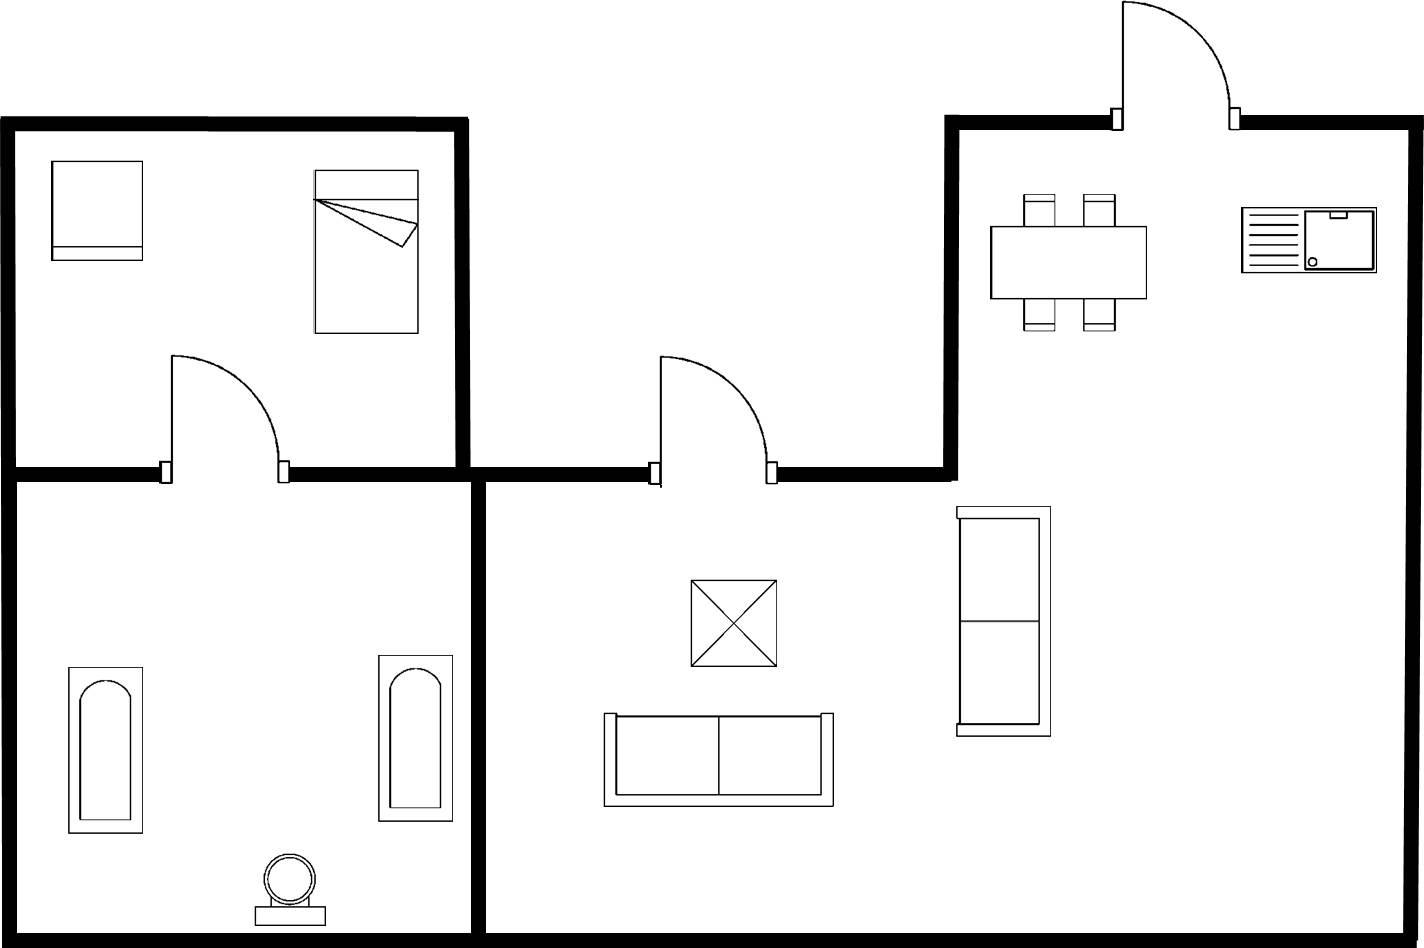bed: (307, 163, 424, 341)
dining_table: (980, 186, 1154, 339)
sink: (1233, 198, 1383, 280)
sofa: (597, 704, 841, 815), (949, 496, 1057, 744)
toilet: (248, 846, 330, 930)
tub: (61, 660, 150, 840), (372, 648, 457, 828)
